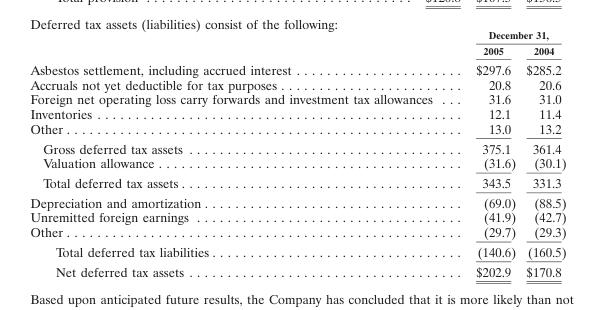table: (29, 28, 565, 279)
table column: (29, 28, 453, 279), (453, 28, 520, 279), (520, 28, 565, 279)
table column header: (29, 28, 565, 58)
table row: (29, 172, 565, 192), (29, 241, 565, 261), (29, 58, 565, 76), (29, 120, 565, 138), (29, 261, 565, 279), (29, 138, 565, 155), (29, 155, 565, 172), (29, 192, 565, 209), (29, 224, 565, 241), (29, 42, 565, 58), (29, 76, 565, 91), (29, 91, 565, 106), (29, 209, 565, 224), (29, 28, 565, 42), (29, 106, 565, 120)
table spanning cell: (453, 28, 565, 42)
